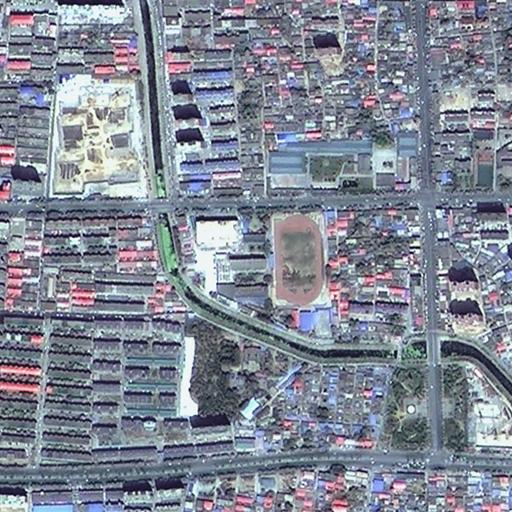school: (215, 204, 327, 308)
